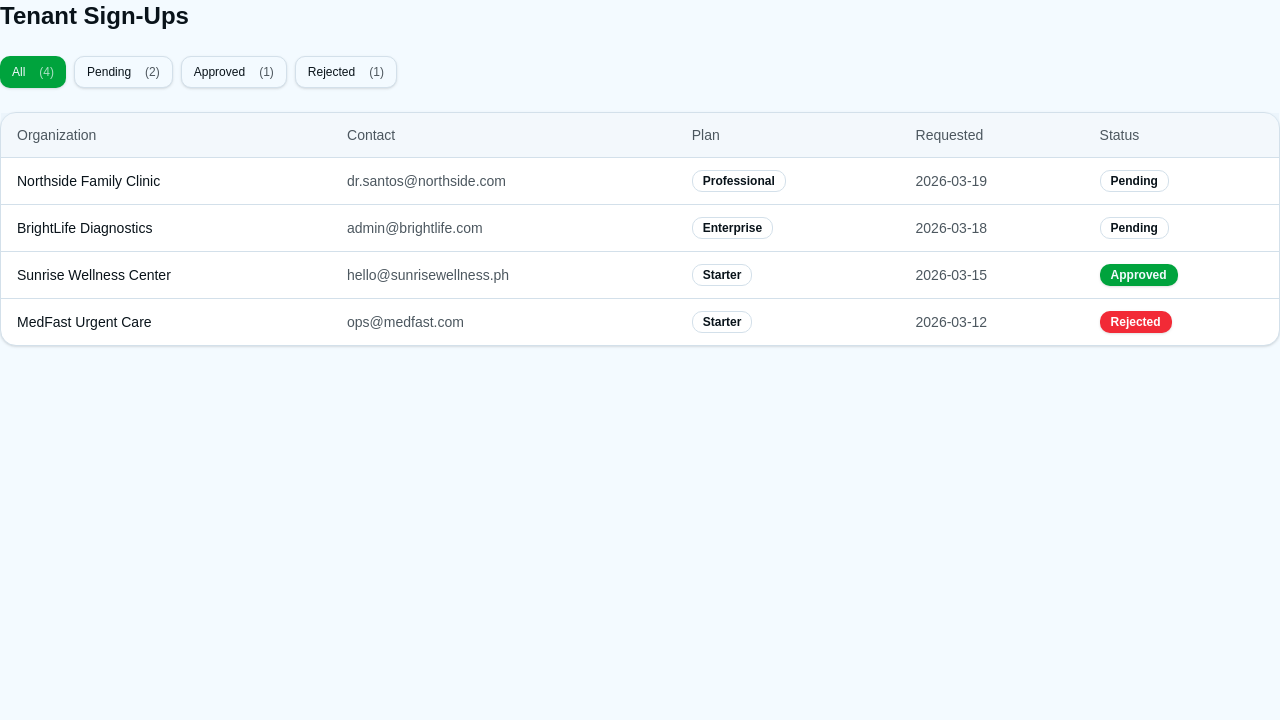
Scenario: SignUpsPage › clicking a row opens detail Sheet with contact name
Click the text "Northside Family Clinic". click: (89, 181)
box: [1, 158, 331, 204]
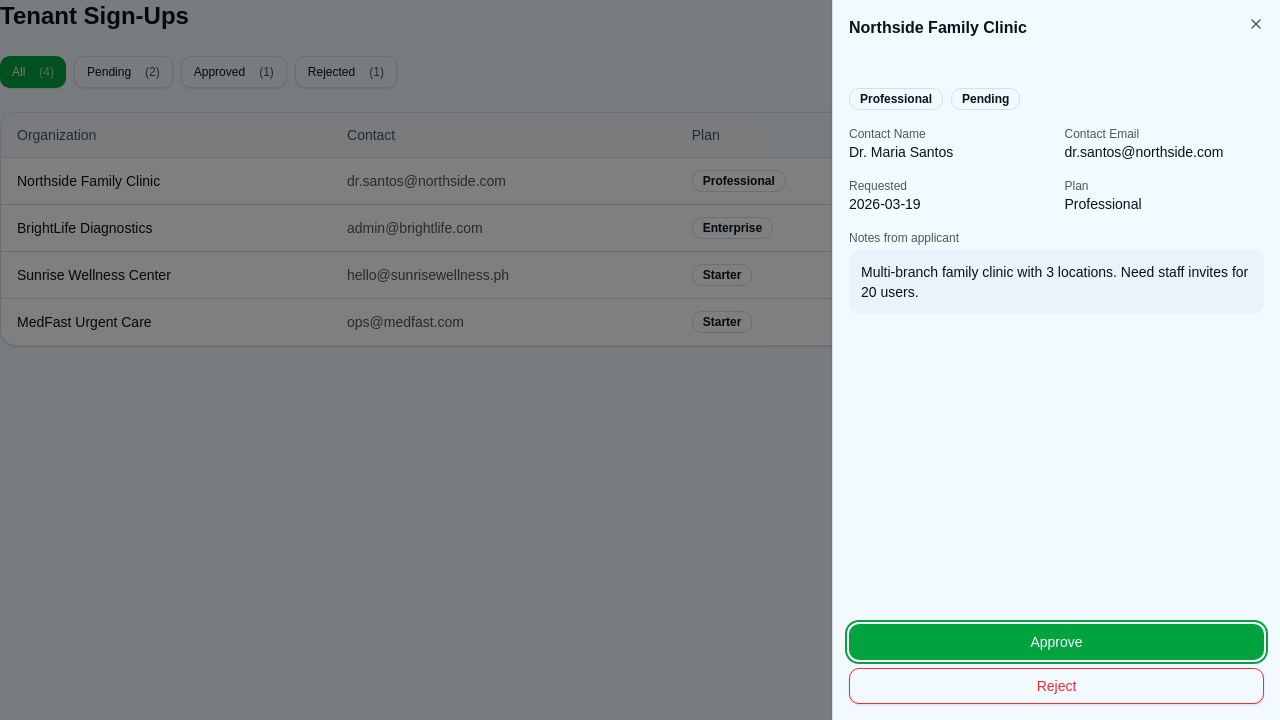
Expected: the text "dr.santos@northside.com" is shown, [331, 158, 676, 204]
Now the text "Dr. Maria Santos" is shown, box [849, 144, 953, 160]
